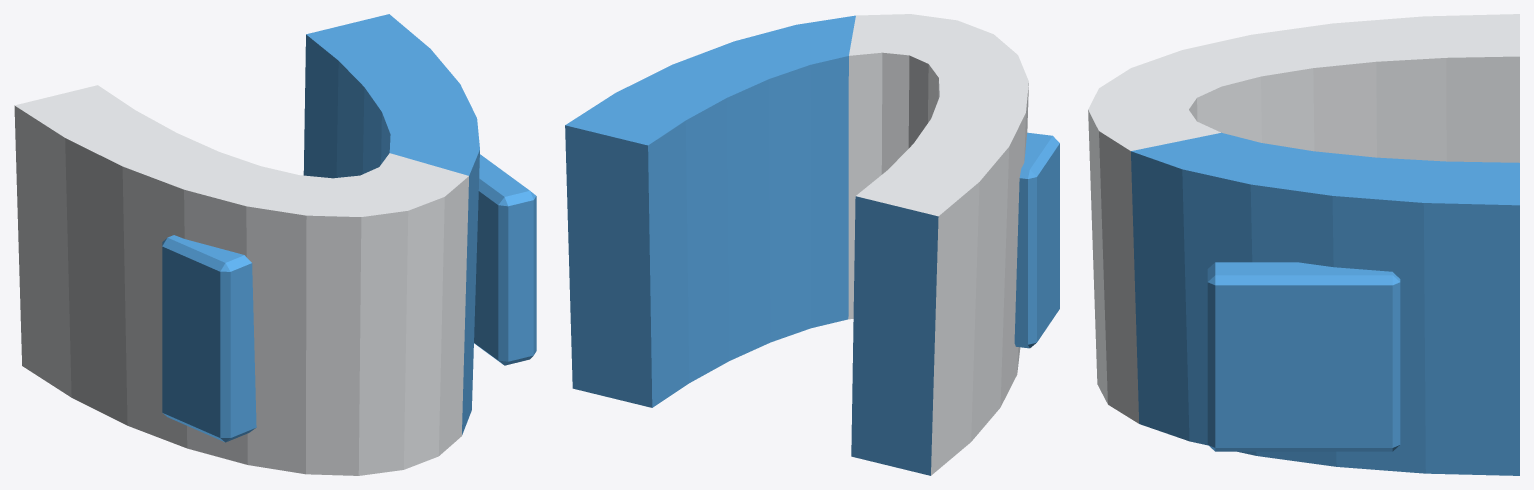
Rendered from left_shoulder__base.glb.
3 renders of one model, left to right at view 1: azimuth 30°, elevation 25°; view 2: azimuth 150°, elevation 25°; view 3: azimuth 270°, elevation 25°, orthographic. The views are drawn at different scales.
Parts seen in each view (by area): view 1: armor_left_shoulder__base_v001; view 2: armor_left_shoulder__base_v001; view 3: armor_left_shoulder__base_v001.
Boxes of the visible parts, x1,y1,x2,y2 form: armor_left_shoulder__base_v001: (14, 14, 536, 475); armor_left_shoulder__base_v001: (565, 14, 1059, 475); armor_left_shoulder__base_v001: (1088, 14, 1519, 475).
Size of the model in its own units: 0.1772 by 0.118 by 0.1682.
